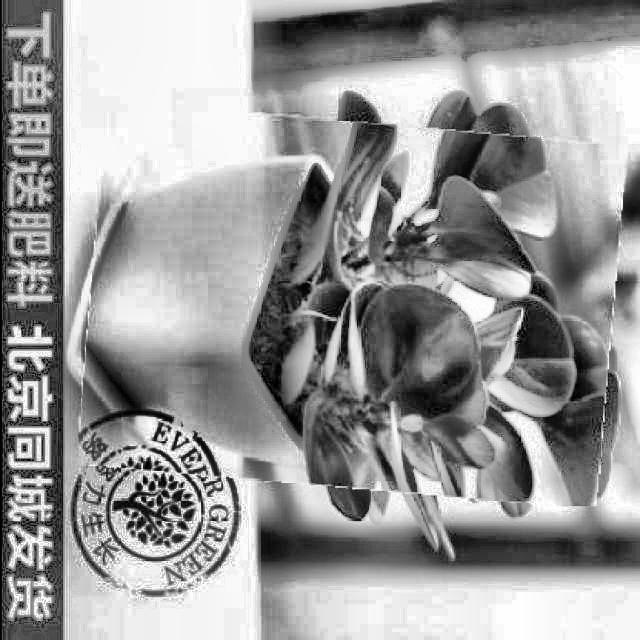plants: (81, 111, 618, 497)
